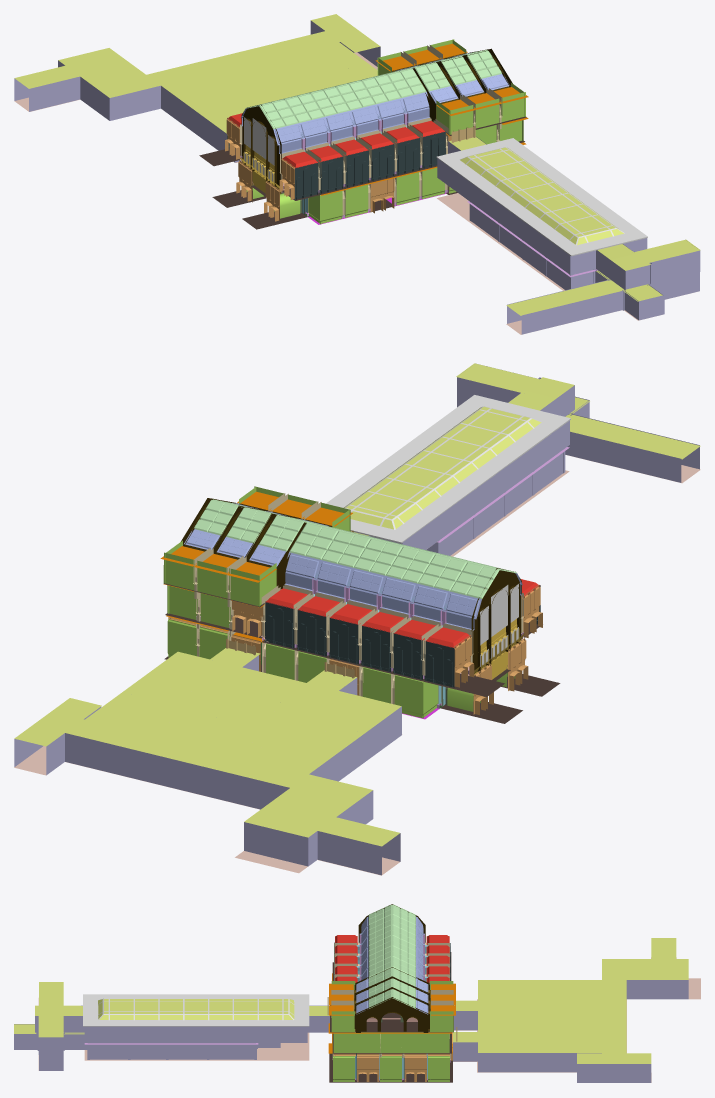
Rendered from Archi_Museum_MESH.fbx.
3 renders of one model, top to bottom at view 1: azimuth 30°, elevation 25°; view 2: azimuth 150°, elevation 25°; view 3: azimuth 270°, elevation 25°, orthographic. The views are drawn at different scales.
Visible parts, largest first — view 1: Archi_Annexes_Plafond, Archi_Annexes_Murs, Archi_Murs, Archi_Toit_01, Archi_Block_Shadoxs, Archi_Annexes_Plafond_Glass, Archi_Toit_02, Archi_Murs_Glass, Archi_Arches, Archi_Portes_01, Archi_Toit_Glass, Archi_Murs_Fenetres (+7 smaller); view 2: Archi_Annexes_Plafond, Archi_Annexes_Murs, Archi_Murs, Archi_Toit_01, Archi_Block_Shadoxs, Archi_Annexes_Plafond_Glass, Archi_Arches, Archi_Murs_Glass, Archi_Toit_02, Archi_Portes_01, Archi_Toit_Glass, Archi_Murs_Fenetres (+7 smaller); view 3: Archi_Annexes_Plafond, Archi_Annexes_Murs, Archi_Murs, Archi_Toit_01, Archi_Block_Shadoxs, Archi_Annexes_Plafond_Glass, Archi_Centre, Archi_Plafond_01, Archi_Annexes_Sol, Archi_Sol, Archi_Plafond_02, Archi_Portes_01 (+5 smaller).
Part boxes in pixels (<box>): Archi_Annexes_Plafond: <box>14,14,700,315</box>; Archi_Annexes_Murs: <box>14,20,700,334</box>; Archi_Murs: <box>246,39,525,224</box>; Archi_Toit_01: <box>246,50,501,129</box>; Archi_Block_Shadoxs: <box>436,138,647,256</box>; Archi_Annexes_Plafond_Glass: <box>460,147,623,245</box>; Archi_Toit_02: <box>241,52,509,154</box>; Archi_Murs_Glass: <box>228,136,445,197</box>; Archi_Arches: <box>240,45,502,214</box>; Archi_Portes_01: <box>225,118,451,221</box>; Archi_Toit_Glass: <box>243,53,507,142</box>; Archi_Murs_Fenetres: <box>227,118,445,199</box>; Archi_Annexes_Plafond: <box>14,363,700,846</box>; Archi_Annexes_Murs: <box>14,366,699,875</box>; Archi_Murs: <box>163,486,515,718</box>; Archi_Toit_01: <box>194,499,516,599</box>; Archi_Block_Shadoxs: <box>326,395,570,543</box>; Archi_Annexes_Plafond_Glass: <box>344,406,541,529</box>; Archi_Arches: <box>193,493,523,704</box>; Archi_Murs_Glass: <box>265,608,537,684</box>; Archi_Toit_02: <box>184,503,522,630</box>; Archi_Portes_01: <box>168,585,542,715</box>; Archi_Toit_Glass: <box>187,503,519,615</box>; Archi_Murs_Fenetres: <box>265,585,540,687</box>; Archi_Annexes_Plafond: <box>14,938,688,1063</box>; Archi_Annexes_Murs: <box>14,980,688,1082</box>; Archi_Murs: <box>331,981,453,1081</box>; Archi_Toit_01: <box>368,904,415,1008</box>; Archi_Block_Shadoxs: <box>83,994,309,1026</box>; Archi_Annexes_Plafond_Glass: <box>98,999,294,1019</box>; Archi_Centre: <box>354,904,429,1054</box>; Archi_Plafond_01: <box>335,935,449,982</box>; Archi_Annexes_Sol: <box>38,957,700,1082</box>; Archi_Sol: <box>329,952,453,1082</box>; Archi_Plafond_02: <box>328,973,455,1053</box>; Archi_Portes_01: <box>333,936,452,1081</box>.
Bounding box in the file's own units: 7116 × 2353 × 16381.
